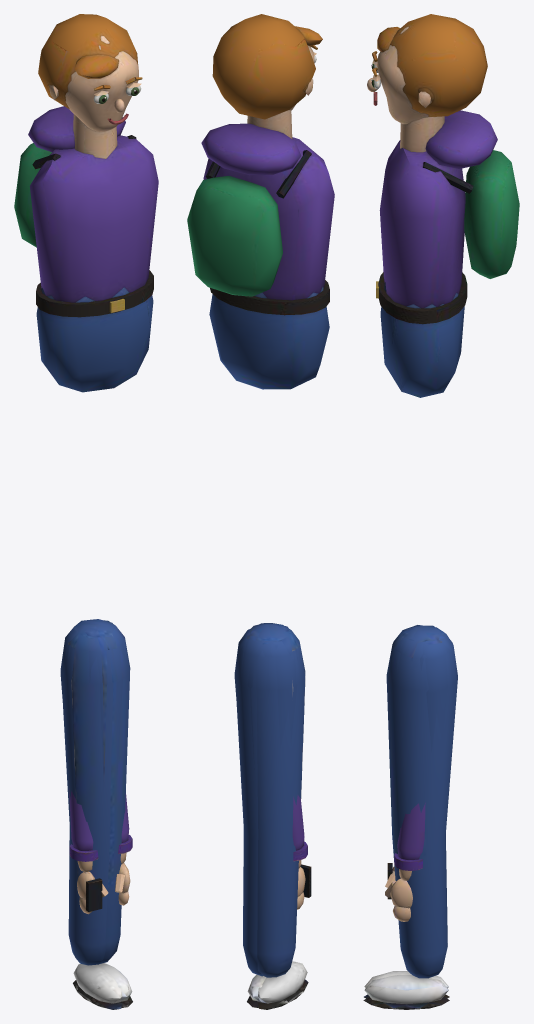
Rendered from estudiante.glb.
3 views of the same model, side by side, from view 1: azimuth 30°, elevation 25°; view 2: azimuth 150°, elevation 25°; view 3: azimuth 270°, elevation 25° (orthographic). The views are drawn at different scales.
Visible parts, largest first — view 1: estudiante_cuerpo, estudiante_pierna_i, estudiante_pierna_d, estudiante_brazo_i, estudiante_brazo_d; view 2: estudiante_cuerpo, estudiante_pierna_i, estudiante_pierna_d, estudiante_brazo_i; view 3: estudiante_cuerpo, estudiante_pierna_d, estudiante_pierna_i, estudiante_brazo_d.
Part boxes in pixels (x1,y1,x2,y2): estudiante_cuerpo: [14, 14, 158, 392]; estudiante_pierna_i: [63, 619, 125, 1009]; estudiante_pierna_d: [60, 620, 132, 1007]; estudiante_brazo_i: [69, 789, 108, 914]; estudiante_brazo_d: [115, 793, 132, 905]; estudiante_cuerpo: [187, 14, 334, 389]; estudiante_pierna_i: [234, 623, 308, 1009]; estudiante_pierna_d: [236, 624, 298, 1007]; estudiante_brazo_i: [292, 795, 311, 909]; estudiante_cuerpo: [367, 14, 519, 397]; estudiante_pierna_d: [363, 625, 457, 1009]; estudiante_pierna_i: [364, 625, 457, 998]; estudiante_brazo_d: [385, 802, 425, 921].
Bounding box in the file's own units: 0.343 × 2.64 × 0.3808.
Materials: 5 (5 with a texture image).
